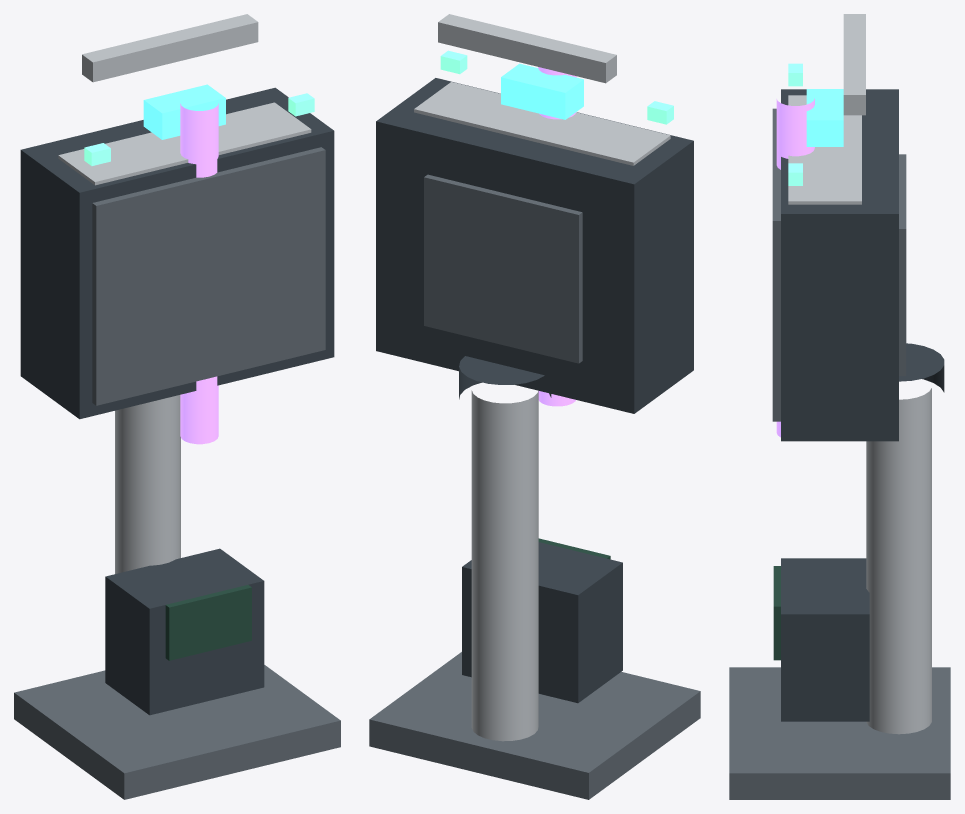
File: uvc-head-assembly.glb
3 renders of one model, left to right at view 1: azimuth 30°, elevation 25°; view 2: azimuth 150°, elevation 25°; view 3: azimuth 270°, elevation 25°, orthographic.
Parts seen in each view (by area): view 1: HousingRim, Housing, MountPlate, DriverBox, Column, ReflectorTop, HandleBar, DriverBoard, PresenceSensor, UVCTube_2, UVCTube_0; view 2: Housing, VentGrill, MountPlate, Column, DriverBox, ReflectorTop, HandleBar, PresenceSensor, Collar; view 3: Housing, MountPlate, Column, DriverBox, ReflectorTop, HousingRim, HandleBar, PresenceSensor, UVCTube_2, VentGrill, Collar, DriverBoard.
Part boxes in pixels (x1=…): HousingRim: x1=92, y1=147, x2=325, y2=405; Housing: x1=20, y1=87, x2=334, y2=419; MountPlate: x1=14, y1=665, x2=340, y2=799; DriverBox: x1=105, y1=548, x2=264, y2=715; Column: x1=115, y1=395, x2=180, y2=573; ReflectorTop: x1=58, y1=102, x2=311, y2=185; HandleBar: x1=82, y1=14, x2=258, y2=82; DriverBoard: x1=165, y1=585, x2=251, y2=660; PresenceSensor: x1=143, y1=84, x2=225, y2=139; UVCTube_2: x1=180, y1=103, x2=218, y2=177; UVCTube_0: x1=180, y1=376, x2=218, y2=444; Housing: x1=376, y1=78, x2=693, y2=413; VentGrill: x1=424, y1=174, x2=582, y2=363; MountPlate: x1=369, y1=652, x2=700, y2=799; Column: x1=471, y1=390, x2=538, y2=741; DriverBox: x1=462, y1=542, x2=622, y2=703; ReflectorTop: x1=414, y1=82, x2=670, y2=165; HandleBar: x1=438, y1=14, x2=616, y2=83; PresenceSensor: x1=501, y1=63, x2=583, y2=119; Collar: x1=459, y1=356, x2=551, y2=399; Housing: x1=781, y1=89, x2=898, y2=441; MountPlate: x1=729, y1=667, x2=950, y2=799; Column: x1=866, y1=388, x2=931, y2=734; DriverBox: x1=781, y1=558, x2=869, y2=721; ReflectorTop: x1=788, y1=95, x2=861, y2=204; HousingRim: x1=772, y1=108, x2=780, y2=421; HandleBar: x1=843, y1=14, x2=865, y2=115; PresenceSensor: x1=806, y1=89, x2=843, y2=146; UVCTube_2: x1=776, y1=98, x2=814, y2=169; VentGrill: x1=899, y1=154, x2=906, y2=376; Collar: x1=899, y1=343, x2=944, y2=392; DriverBoard: x1=773, y1=566, x2=780, y2=660.
Bounding box in the file's own units: 0.4 × 1.03 × 0.3.
